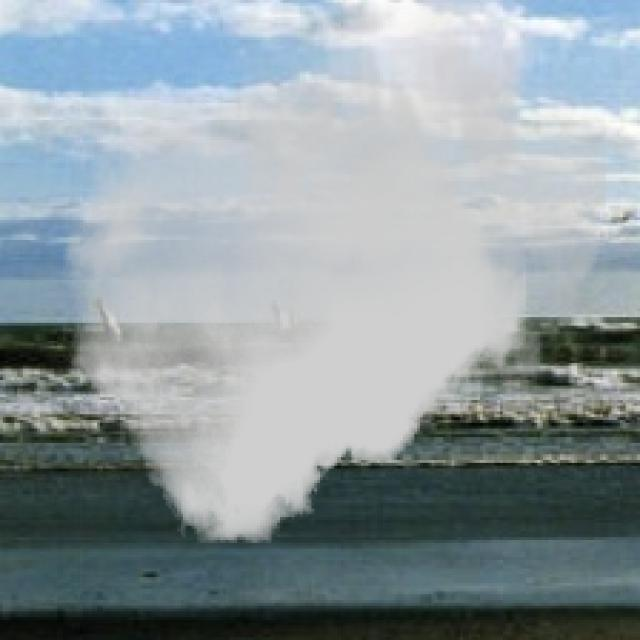smoke: (63, 0, 606, 543)
